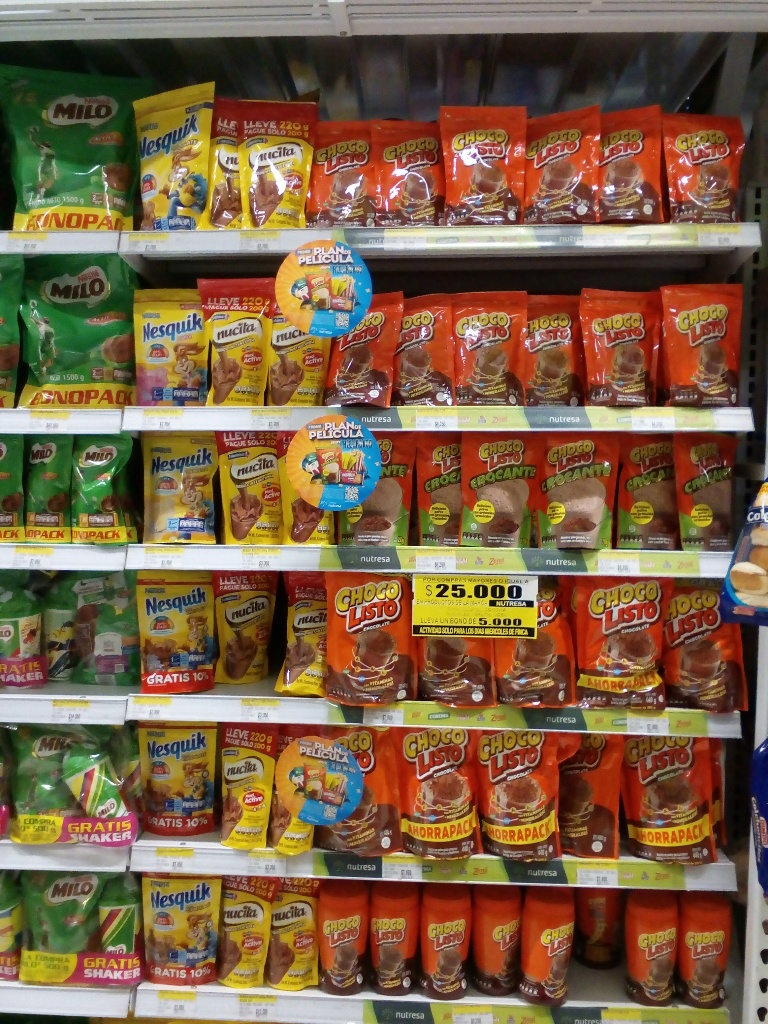COL0170102DYP25000: (672, 427, 743, 550)
COL0170103DYP44000: (317, 722, 403, 853)
COL0170103TRR30000: (320, 882, 368, 996)
COL0170203DYP25000: (74, 435, 137, 545)
COL0170203DYP50000: (18, 867, 103, 990)
COL0170303DYP20000: (134, 94, 207, 231)
COL0170305DYP20000: (133, 284, 209, 412)
COL0170306DYP20000: (136, 430, 220, 545)
